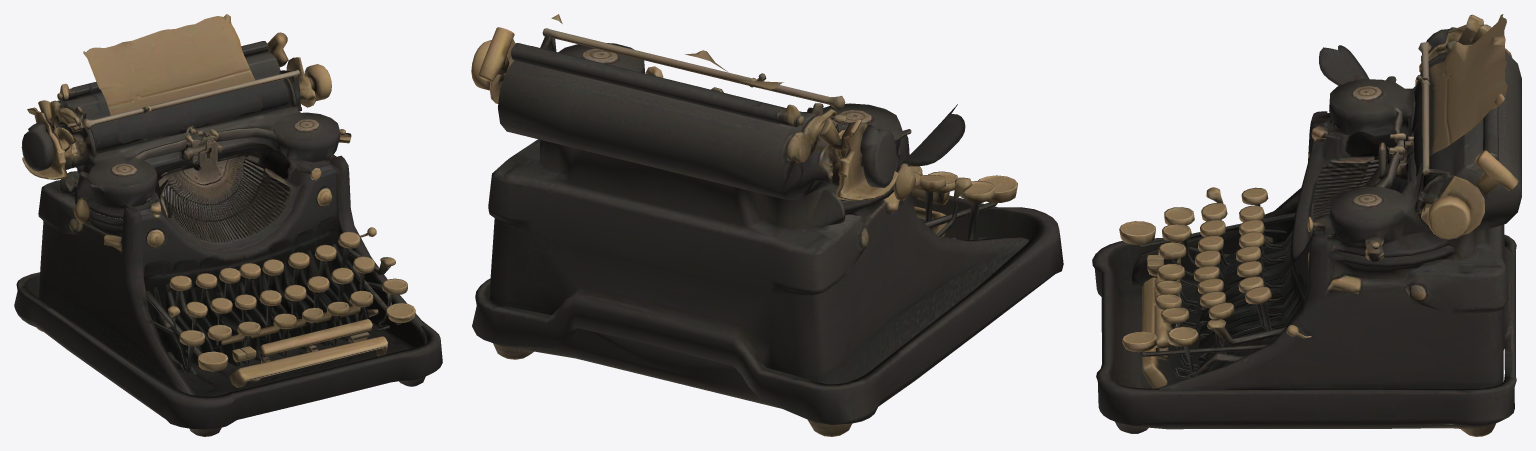
The model's file is typewriter.glb.
The picture shows the model from 3 angles, left to right: view 1: azimuth 30°, elevation 25°; view 2: azimuth 150°, elevation 25°; view 3: azimuth 270°, elevation 25°; orthographic projection. The views are drawn at different scales.
Visible parts, largest first — view 1: tripo_7e02a957_9a8d_4bb5_86b1_5976c74bc0ec; view 2: tripo_7e02a957_9a8d_4bb5_86b1_5976c74bc0ec; view 3: tripo_7e02a957_9a8d_4bb5_86b1_5976c74bc0ec.
Boxes of the visible parts, bbox=[...] form: tripo_7e02a957_9a8d_4bb5_86b1_5976c74bc0ec: bbox=[14, 14, 442, 436]; tripo_7e02a957_9a8d_4bb5_86b1_5976c74bc0ec: bbox=[471, 14, 1063, 436]; tripo_7e02a957_9a8d_4bb5_86b1_5976c74bc0ec: bbox=[1092, 14, 1521, 436].
Size of the model in its own units: 0.9858 by 0.8139 by 0.9995.
1 material, 1 textured.
